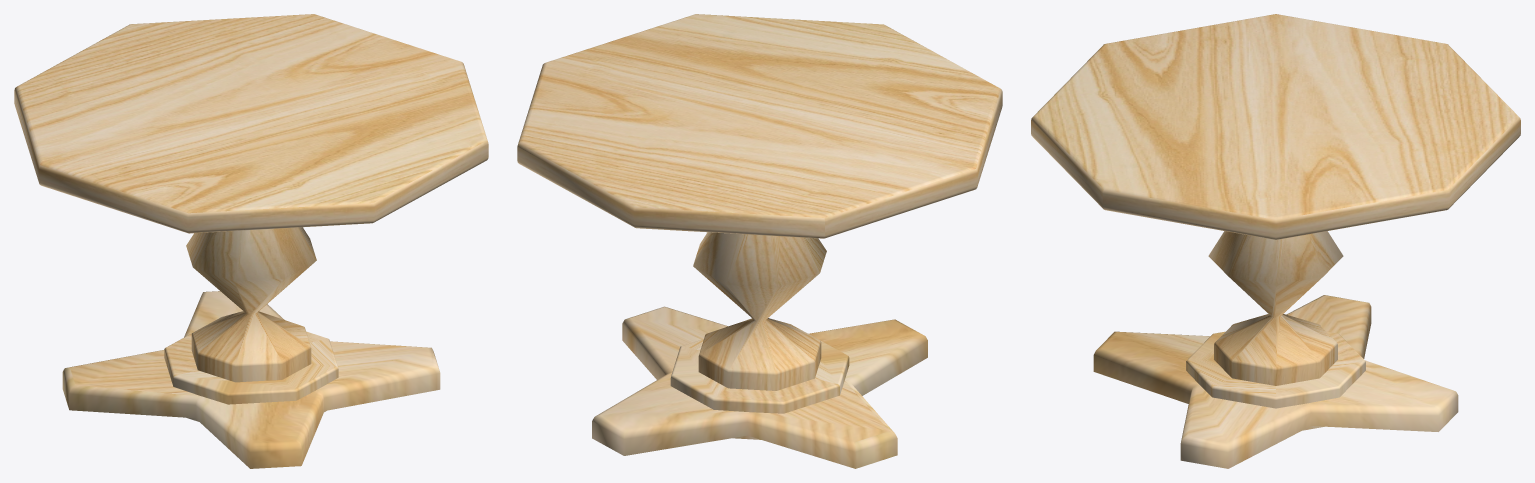
Rendered from Mesa.glb.
3 views of the same model, side by side, from view 1: azimuth 30°, elevation 25°; view 2: azimuth 150°, elevation 25°; view 3: azimuth 270°, elevation 25° (orthographic). The views are drawn at different scales.
Visible parts, largest first — view 1: End Table (Fancy); view 2: End Table (Fancy); view 3: End Table (Fancy).
Boxes of the visible parts, left/top/right/bottom form: End Table (Fancy): left=14, top=14, right=488, bottom=468; End Table (Fancy): left=517, top=14, right=1002, bottom=468; End Table (Fancy): left=1031, top=14, right=1520, bottom=468.
Size of the model in its own units: 0.9416 by 0.5972 by 0.9416.
Materials: 1 (1 with a texture image).
